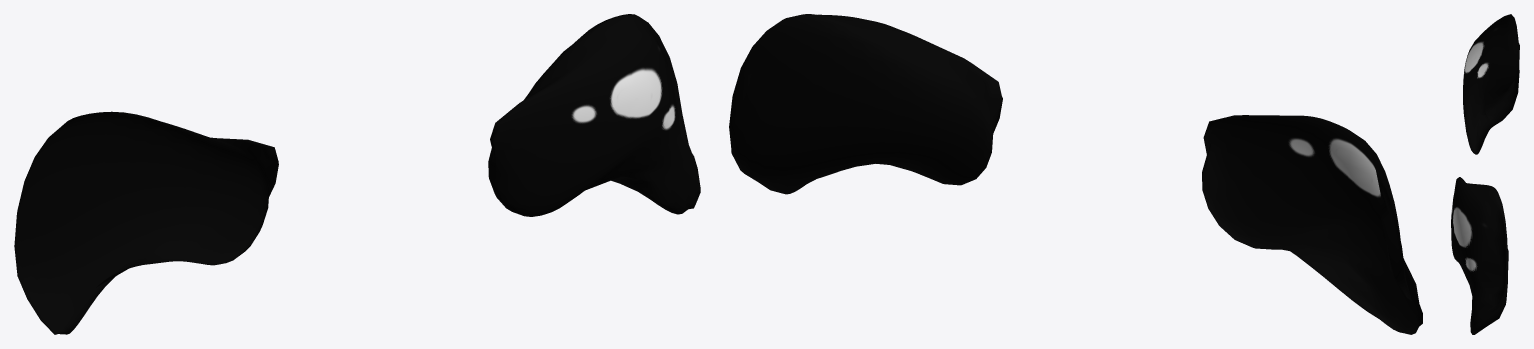
Rendered from Droopy.glb.
3 renders of one model, left to right at view 1: azimuth 30°, elevation 25°; view 2: azimuth 150°, elevation 25°; view 3: azimuth 270°, elevation 25°, orthographic. The views are drawn at different scales.
Parts seen in each view (by area): view 1: Sphere.011; view 2: Sphere.011; view 3: Sphere.011.
Boxes of the visible parts, x1,y1,x2,y2 form: Sphere.011: [14, 14, 700, 334]; Sphere.011: [729, 14, 1422, 334]; Sphere.011: [1451, 14, 1519, 334].
Size of the model in its own units: 0.4051 by 0.1281 by 0.0572.
1 material, 1 textured.
